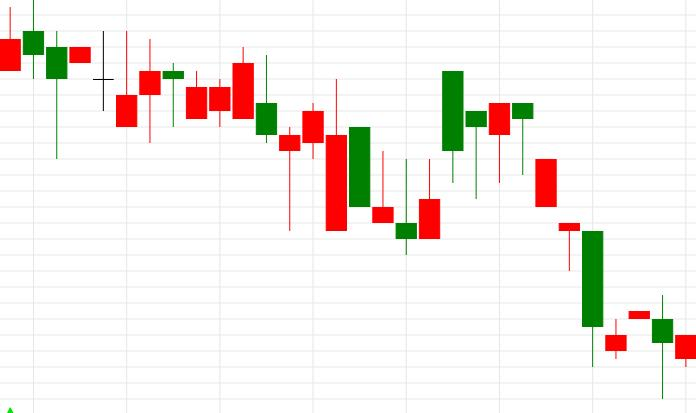inverse_hammer_rise: (23, 0, 137, 159)
